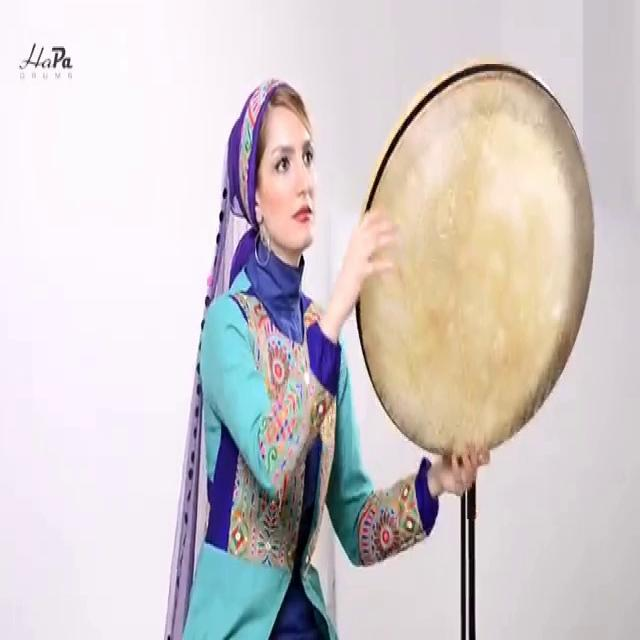Daf: (354, 57, 597, 461)
